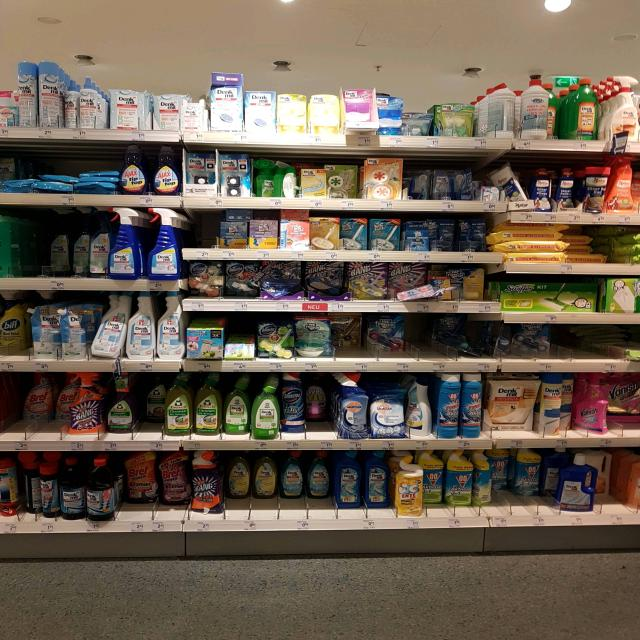empty: (548, 318, 617, 367), (13, 208, 45, 286), (407, 316, 453, 361), (178, 212, 223, 251)
